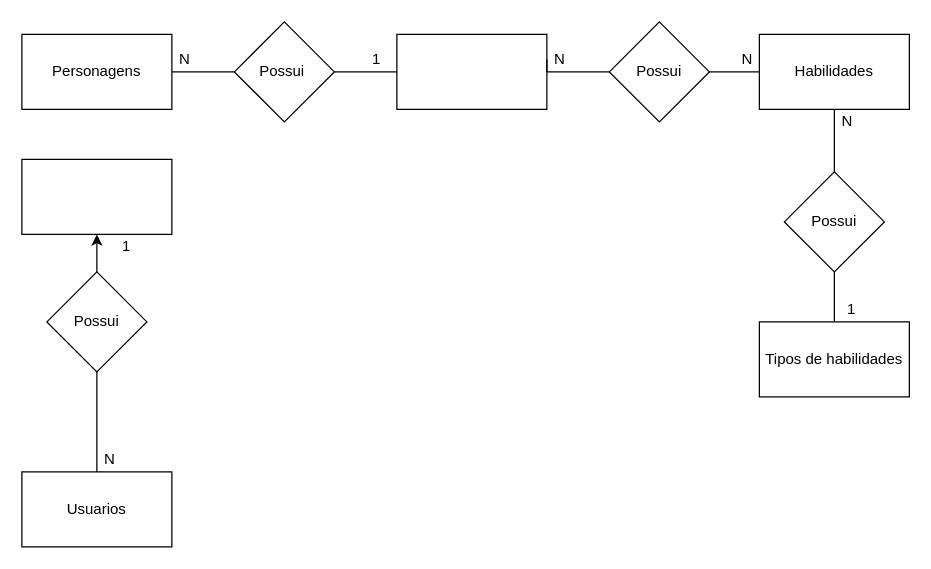
Image size: 931x569. Some labels were removed from this diagram. Each missing label, with the box of its shape:
Classes: (396, 33, 547, 109)
TiposUsuarios: (21, 158, 172, 234)
